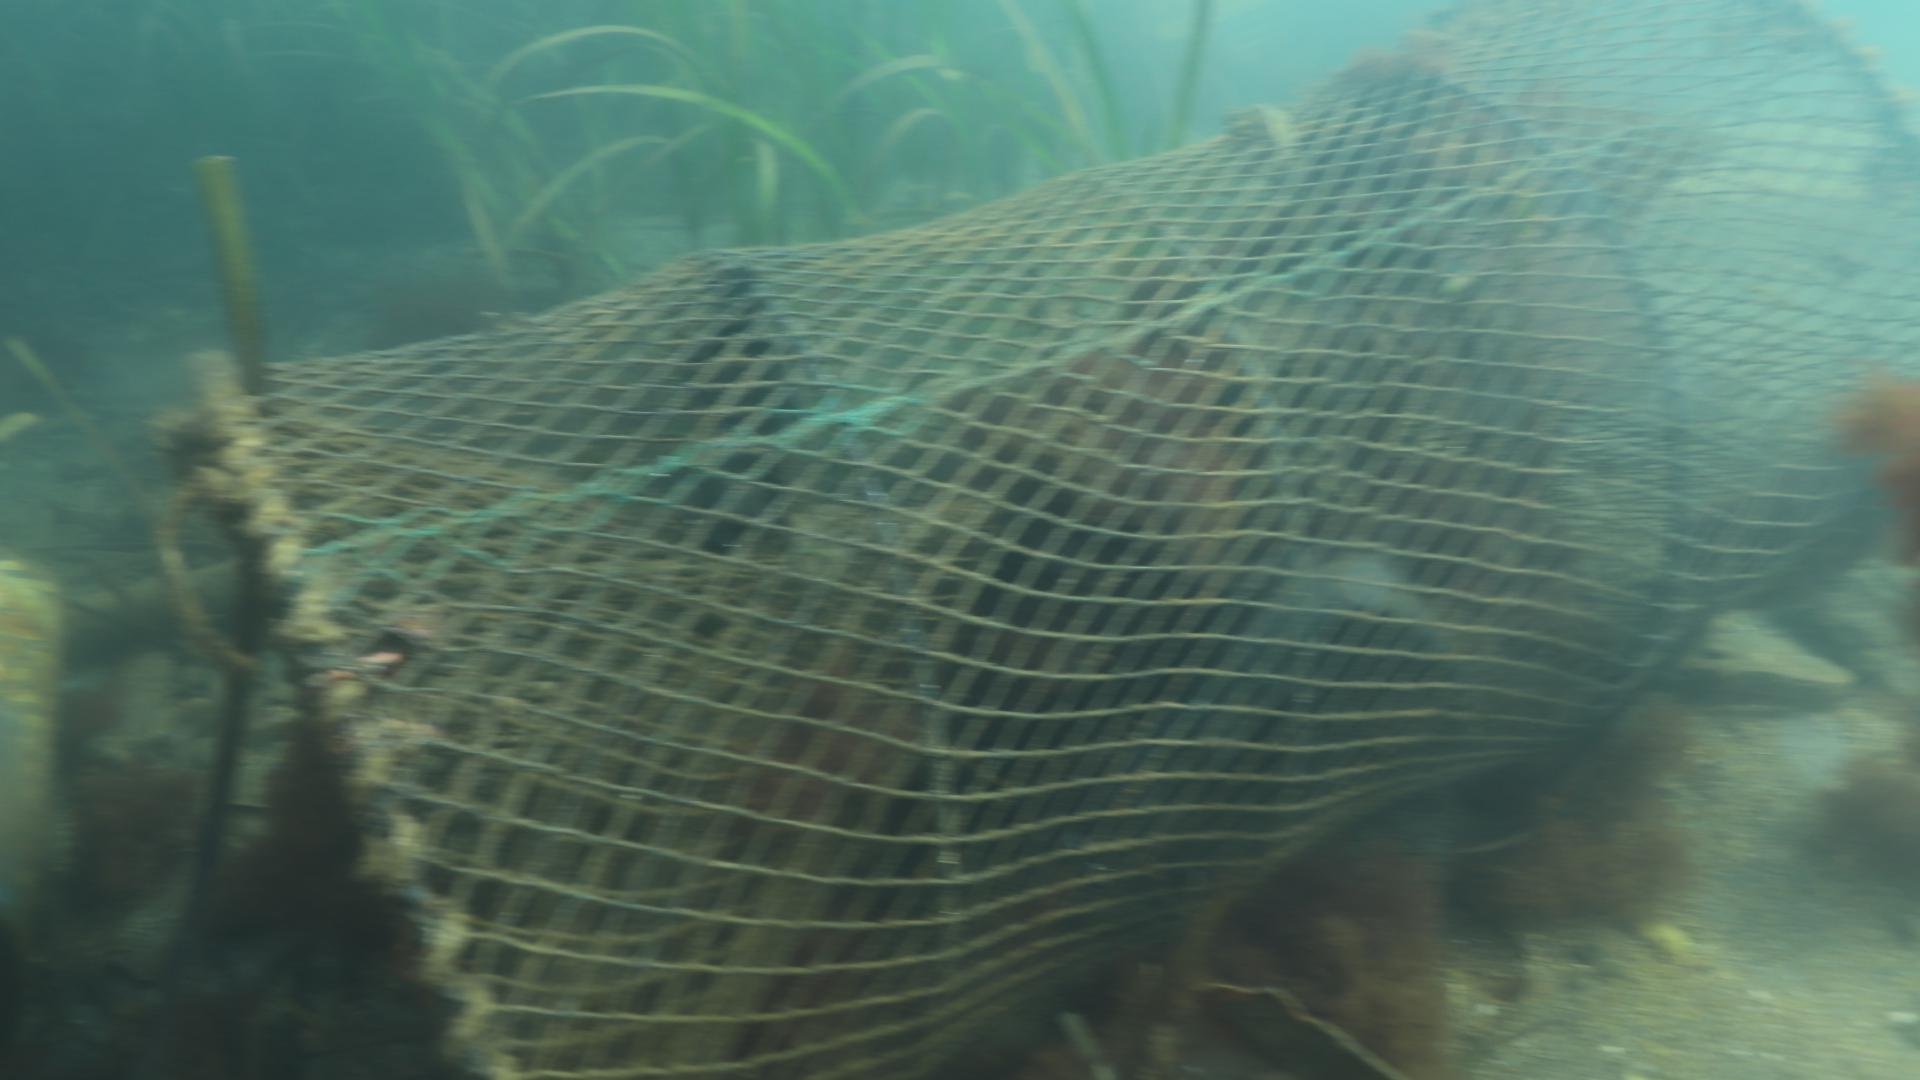spring fish trap: (179, 5, 1920, 1080)
